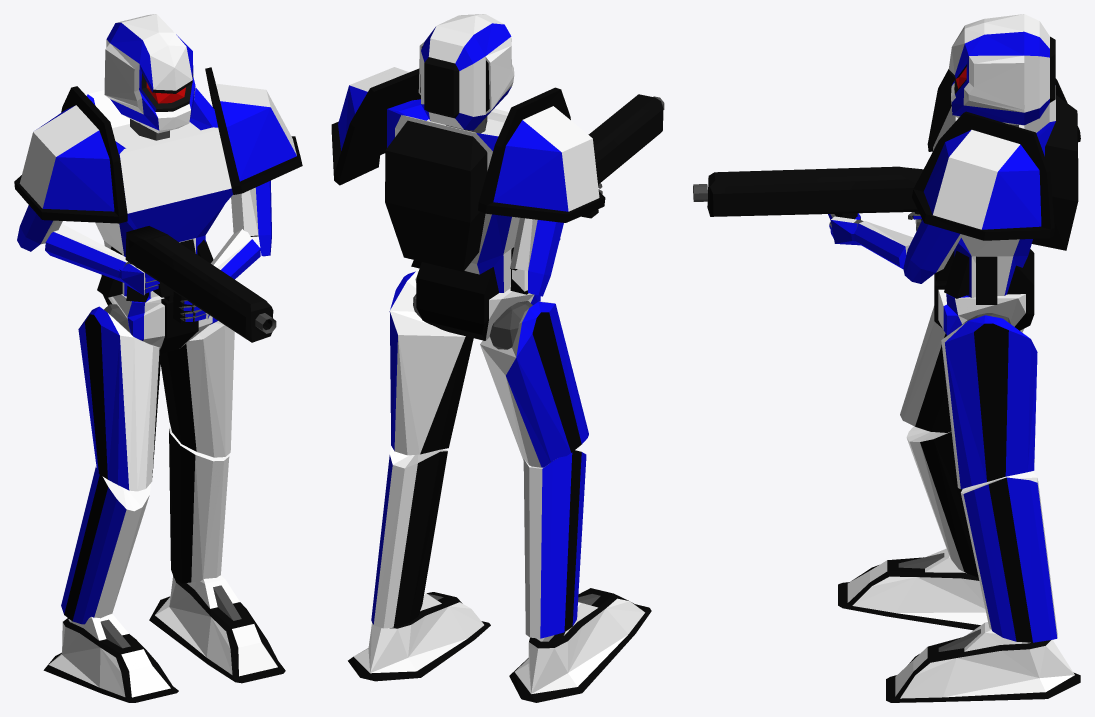
Rendered from robots_000004.obj.
3 views of the same model, side by side, from view 1: azimuth 30°, elevation 25°; view 2: azimuth 150°, elevation 25°; view 3: azimuth 270°, elevation 25° (orthographic). The views are drawn at different scales.
Parts seen in each view (by area): view 1: Chest_plate_Cube.004, R_Thigh_Cube.005, Cube.002_Cube.059, Head_base_Cube.022, R_Foot.002_Cube.035, R_Shin_Cube.007, R_Thigh.002_Cube.027, Cube_Cube.001, R_Shin.002_Cube.029, R_Foot_Cube, Cube_Cube.021, Pelvis_Cube.006 (+5 smaller); view 2: Chest_plate_Cube.004, Cube.002_Cube.059, R_Thigh_Cube.005, R_Thigh.002_Cube.027, R_Shin_Cube.007, R_Shin.002_Cube.029, Head_base_Cube.022, R_Foot_Cube, R_Foot.002_Cube.035, Cube_Cube.021, Pelvis_Cube.006, Cube_Cube.001 (+2 smaller); view 3: Cube_Cube.021, R_Thigh.002_Cube.027, R_Shin.002_Cube.029, R_Foot.002_Cube.035, Head_base_Cube.022, Cube_Cube.001, Chest_plate_Cube.004, R_Foot_Cube, R_Shin_Cube.007, R_Thigh_Cube.005, Pelvis_Cube.006, L_Arm_Cube.014 (+3 smaller).
Boxes of the visible parts, box(x1,y1,x2,y2) form: Chest_plate_Cube.004: box(87, 88, 232, 302); R_Thigh_Cube.005: box(78, 306, 161, 491); Cube.002_Cube.059: box(14, 86, 127, 223); Head_base_Cube.022: box(104, 14, 195, 133); R_Foot.002_Cube.035: box(149, 575, 285, 683); R_Shin_Cube.007: box(61, 467, 150, 624); R_Thigh.002_Cube.027: box(160, 321, 234, 457); Cube_Cube.001: box(125, 226, 276, 342); R_Shin.002_Cube.029: box(169, 427, 229, 583); R_Foot_Cube: box(43, 614, 178, 702); Cube_Cube.021: box(205, 67, 302, 194); Pelvis_Cube.006: box(101, 275, 217, 353); Chest_plate_Cube.004: box(385, 99, 528, 294); Cube.002_Cube.059: box(478, 87, 605, 222); R_Thigh_Cube.005: box(480, 301, 588, 467); R_Thigh.002_Cube.027: box(389, 271, 473, 455); R_Shin_Cube.007: box(523, 450, 586, 638); R_Shin.002_Cube.029: box(371, 446, 447, 628); Head_base_Cube.022: box(418, 14, 514, 130); R_Foot_Cube: box(509, 588, 651, 702); R_Foot.002_Cube.035: box(348, 592, 490, 681); Cube_Cube.021: box(331, 67, 420, 185); Pelvis_Cube.006: box(415, 262, 540, 340); Cube_Cube.001: box(581, 94, 664, 218); Cube_Cube.021: box(912, 111, 1054, 240); R_Thigh.002_Cube.027: box(941, 315, 1037, 489); R_Shin.002_Cube.029: box(961, 471, 1057, 642); R_Foot.002_Cube.035: box(886, 622, 1080, 702); Head_base_Cube.022: box(948, 14, 1055, 125); Cube_Cube.001: box(693, 166, 923, 220); Chest_plate_Cube.004: box(933, 85, 1078, 304); R_Foot_Cube: box(838, 548, 987, 630); R_Shin_Cube.007: box(906, 426, 978, 577); R_Thigh_Cube.005: box(900, 306, 1023, 432); Pelvis_Cube.006: box(934, 249, 1034, 335); L_Arm_Cube.014: box(903, 219, 962, 283).
Size of the model in its own units: 1.32 by 3.06 by 1.68.
